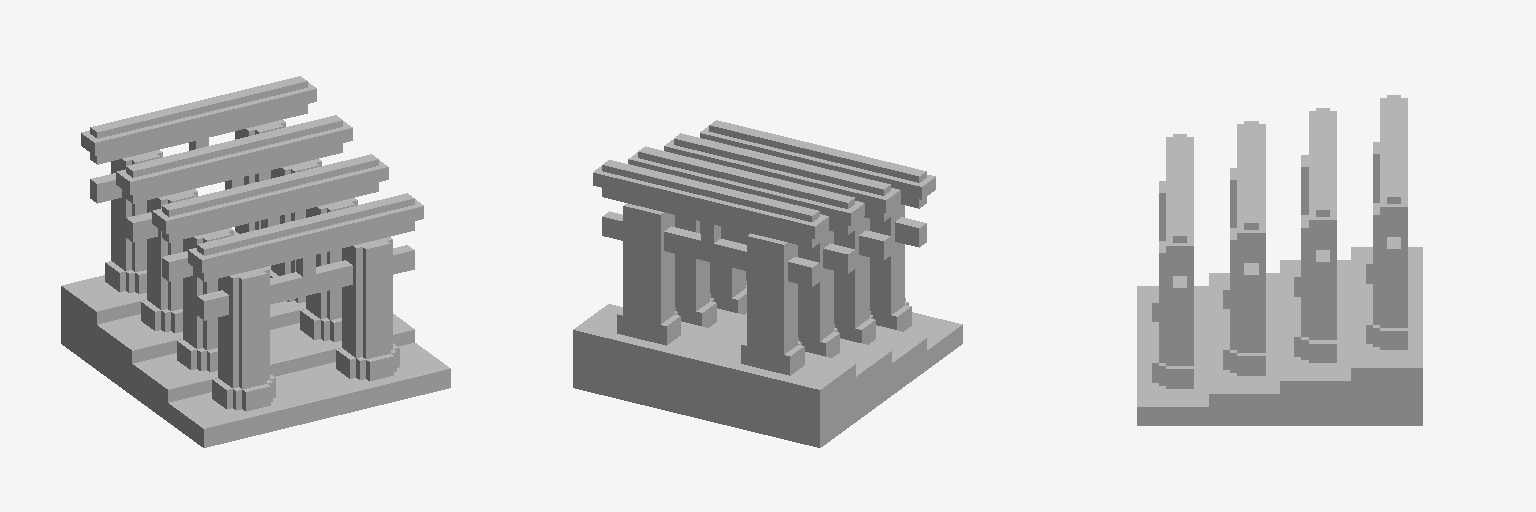
File: Fox Shrine.obj
3 renders of one model, left to right at view 1: azimuth 30°, elevation 25°; view 2: azimuth 150°, elevation 25°; view 3: azimuth 270°, elevation 25°, orthographic.
Visible parts, largest first — view 1: object 1; view 2: object 1; view 3: object 1.
Boxes of the visible parts, x1=… form: object 1: x1=61, y1=76, x2=450, y2=447; object 1: x1=573, y1=120, x2=962, y2=447; object 1: x1=1137, y1=95, x2=1422, y2=425.
Bounding box in the file's own units: 4 × 3.4 × 4.